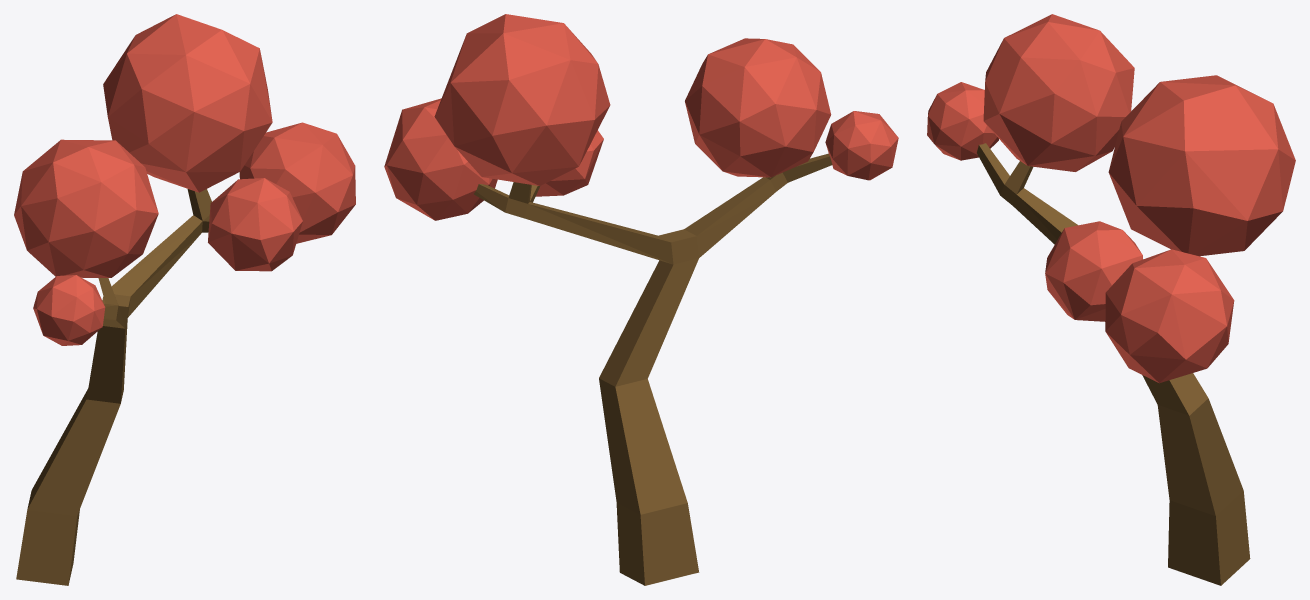
The model's file is tree3_00008.fbx.
3 renders of one model, left to right at view 1: azimuth 30°, elevation 25°; view 2: azimuth 150°, elevation 25°; view 3: azimuth 270°, elevation 25°, orthographic. The views are drawn at different scales.
Visible parts, largest first — view 1: tree3; view 2: tree3; view 3: tree3.
Part boxes in pixels (left/top/right/bottom): tree3: left=14, top=14, right=355, bottom=585; tree3: left=384, top=14, right=898, bottom=585; tree3: left=927, top=14, right=1295, bottom=585.
Bounding box in the file's own units: 923 × 1123 × 673.
